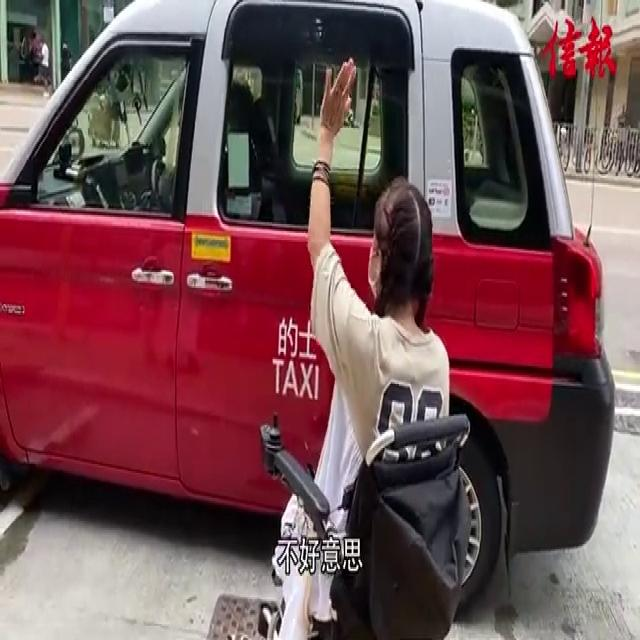wheelchairs: (240, 382, 487, 640)
